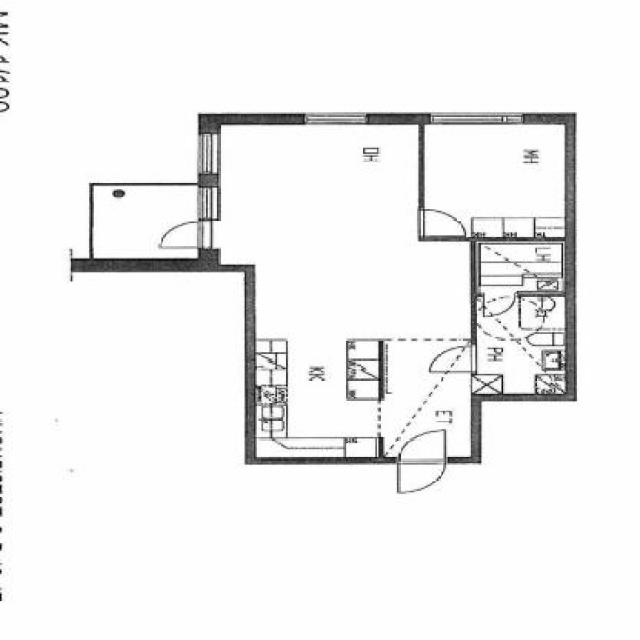door: (397, 429, 452, 497), (157, 220, 217, 249), (418, 208, 471, 240), (428, 346, 477, 374), (480, 292, 514, 318)
window: (429, 112, 522, 123), (198, 131, 218, 172), (306, 112, 366, 123), (197, 185, 217, 217)
zone: (218, 123, 471, 459), (422, 123, 562, 237), (476, 240, 566, 392), (92, 183, 198, 260)
